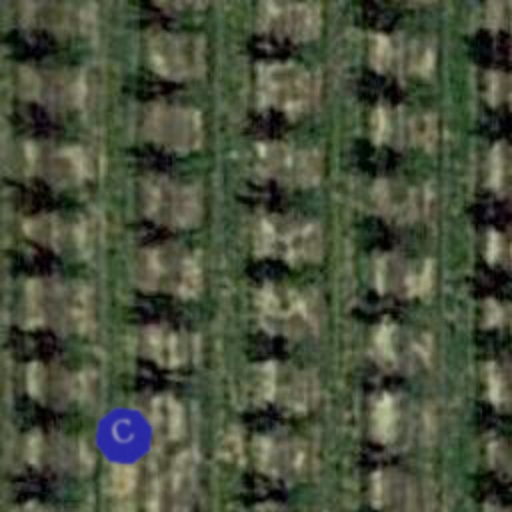octagon: (86, 398, 162, 474)
